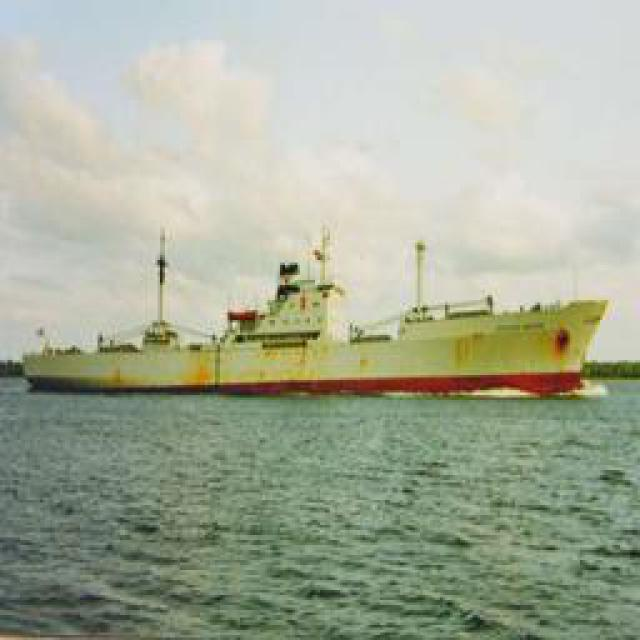Ship: (31, 276, 594, 399)
